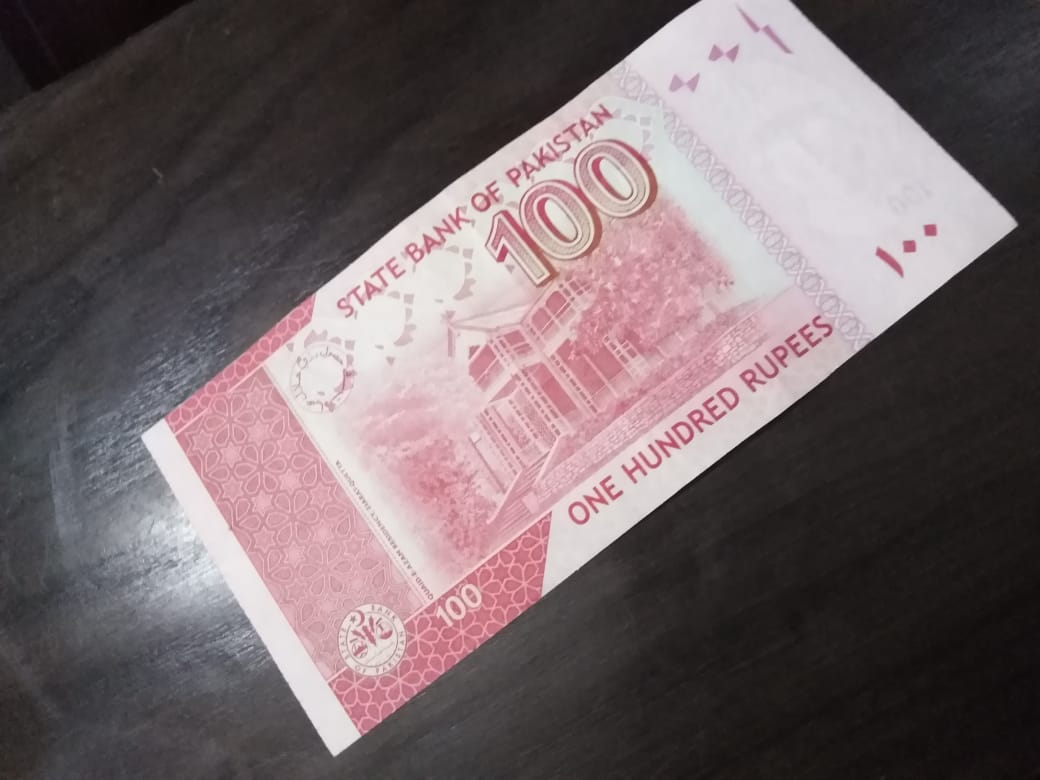100 rupee: (142, 5, 1025, 773)
